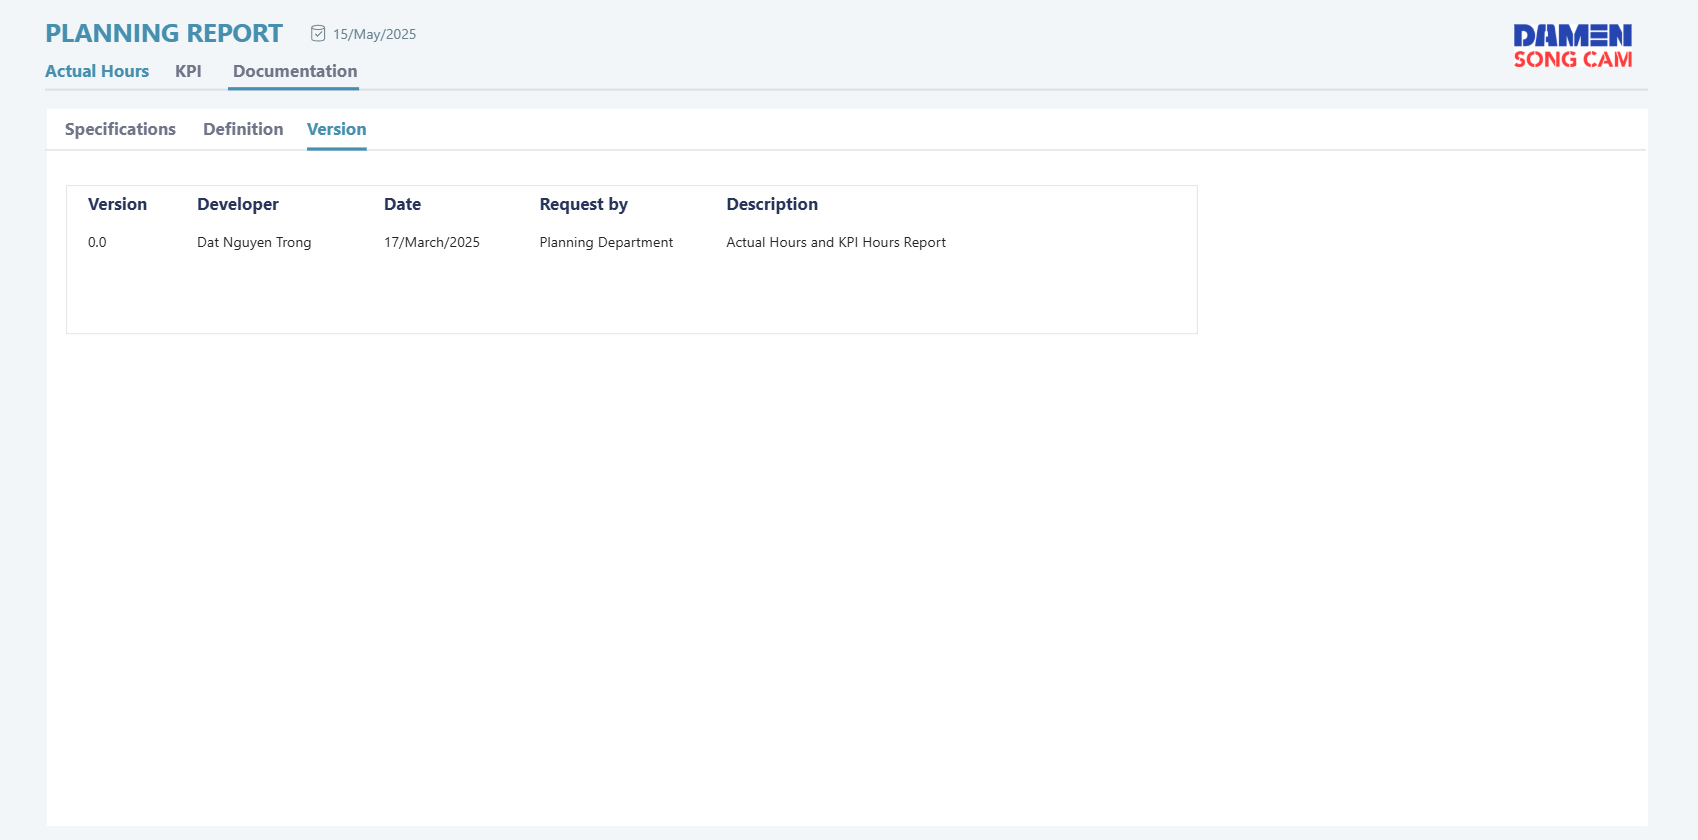

The dashboard page shown, as its layout file describes it:
{"tool":"powerbi","page":{"name":"Version","canvas":[1568,790],"ordinal":4},"visuals":[{"type":"group","id":"g1","title":"Layout top","box":[32,12,1502,34],"z":0},{"type":"image","title":"Logo","box":[1426,18,108,20],"z":0,"group":"g1"},{"type":"card","title":"Layout  Date","fields":{"Values":["Min(Data Refresh.Data Refresh)"]},"box":[265.8,20,80.3,24],"z":0,"group":"g3"},{"type":"shape","title":"Line","box":[32,77,1504,12.5],"z":0,"group":"g4"},{"type":"shape","box":[34,101.1,1502,672.7],"z":0,"group":"g2"},{"type":"shape","title":"Line","box":[32,133,1502,13],"z":0,"group":"g6"},{"type":"actionButton","title":"Selected filters","box":[885.8,48,650.1,36],"z":500,"group":"g4"},{"type":"textbox","title":"Report title","box":[32,12,1341.1,32],"z":1000,"group":"g1"},{"type":"htmlContent443BE3AD55E043BF878BED274D3A6865","title":"Icon","fields":{"content":["AR _Measures.m.warningIcon"]},"box":[240,18,24.1,28],"z":1000,"group":"g3"},{"type":"pageNavigator","title":"Selected under line","box":[204,48,123,36],"z":1000,"group":"g5"},{"type":"group","id":"g2","title":"Content","box":[32,100,1504,673.8],"z":1000},{"type":"textbox","box":[52,172,1062,140],"z":1000,"group":"g2"},{"type":"group","id":"g3","title":"Data Refreshed","box":[240,12,110,34],"z":2000,"group":"g1"},{"type":"actionButton","title":"Go to Issues ","box":[240,12,110,32],"z":2000,"group":"g3"},{"type":"group","id":"g4","title":"Page Navigator","box":[32,48,1504,41.5],"z":2000},{"type":"group","id":"g5","title":"Documentation","box":[204,48,126,36],"z":2000,"group":"g4"},{"type":"actionButton","title":"Documentation","box":[204,48,126,36],"z":2000,"group":"g5"},{"type":"pageNavigator","title":"Version","box":[278,100,56.2,40],"z":2000,"group":"g6"},{"type":"pageNavigator","title":"Page 3","box":[154,48,26,36.2],"z":3000,"group":"g4"},{"type":"group","id":"g6","title":"Page Navigator 2","box":[32,100,1502,46],"z":3000,"group":"g2"},{"type":"pageNavigator","title":"Page 2","box":[32,48,98,36.2],"z":4000,"group":"g4"},{"type":"pageNavigator","title":"Definition","box":[180,100,76,40],"z":4000,"group":"g6"},{"type":"shape","title":"24px Hidden Square","box":[217,17,23.2,23.2],"z":4500},{"type":"pageNavigator","title":"Specifications","box":[51.1,100,105,40],"z":5000,"group":"g6"}]}

Visuals, with their boxes in screenshot pixels (x1, y1, x2, y2), scaled from the page's 1568x790 canvas onto the 1698x840 screenshot:
"Layout top" group: detection(35, 13, 1661, 49)
"Logo" image: detection(1544, 19, 1661, 40)
"Layout  Date" card: detection(288, 21, 375, 47)
"Line" shape: detection(35, 82, 1663, 95)
shape: detection(37, 107, 1663, 823)
"Line" shape: detection(35, 141, 1661, 155)
"Selected filters" actionButton: detection(959, 51, 1663, 89)
"Report title" textbox: detection(35, 13, 1487, 47)
"Icon" htmlContent443BE3AD55E043BF878BED274D3A6865: detection(260, 19, 286, 49)
"Selected under line" pageNavigator: detection(221, 51, 354, 89)
"Content" group: detection(35, 106, 1663, 823)
textbox: detection(56, 183, 1206, 332)
"Data Refreshed" group: detection(260, 13, 379, 49)
"Go to Issues " actionButton: detection(260, 13, 379, 47)
"Page Navigator" group: detection(35, 51, 1663, 95)
"Documentation" group: detection(221, 51, 357, 89)
"Documentation" actionButton: detection(221, 51, 357, 89)
"Version" pageNavigator: detection(301, 106, 362, 149)
"Page 3" pageNavigator: detection(167, 51, 195, 90)
"Page Navigator 2" group: detection(35, 106, 1661, 155)
"Page 2" pageNavigator: detection(35, 51, 141, 90)
"Definition" pageNavigator: detection(195, 106, 277, 149)
"24px Hidden Square" shape: detection(235, 18, 260, 43)
"Specifications" pageNavigator: detection(55, 106, 169, 149)
